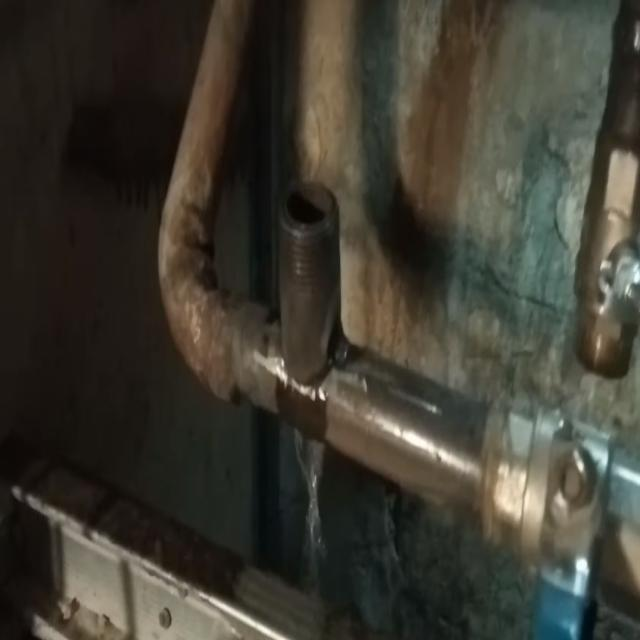leak: (294, 430, 326, 593)
